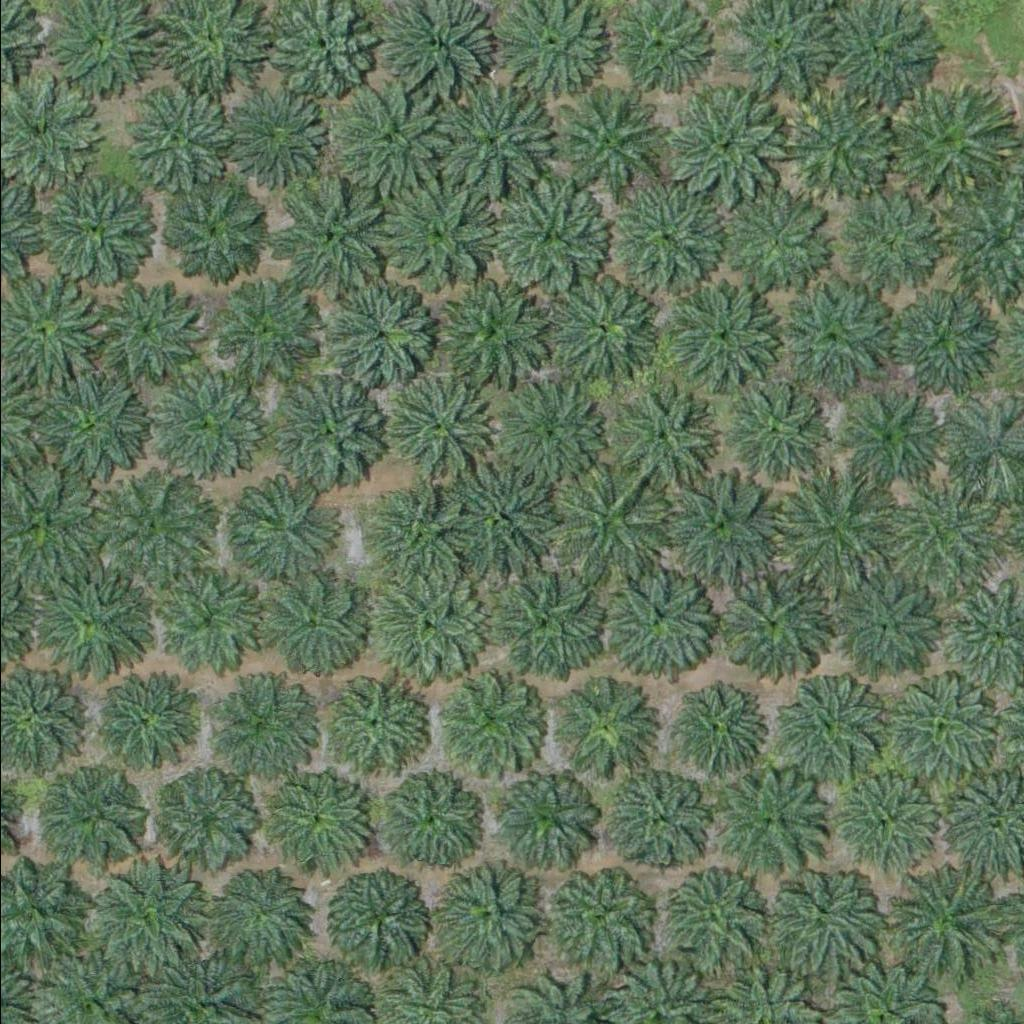Kelapa_Sawit: (358, 557, 484, 682), (879, 78, 1004, 203), (880, 671, 994, 784), (825, 565, 939, 678), (436, 858, 550, 971), (148, 567, 262, 680), (226, 471, 340, 584), (35, 560, 149, 673), (879, 284, 992, 397), (711, 763, 824, 876), (557, 469, 670, 582), (444, 461, 557, 574), (379, 370, 492, 483), (668, 274, 781, 387), (672, 92, 785, 205), (545, 89, 658, 202), (432, 83, 545, 196), (324, 82, 437, 195), (381, 176, 494, 289), (90, 862, 203, 975), (92, 468, 205, 581), (87, 281, 200, 394), (41, 174, 154, 287), (266, 180, 379, 293), (221, 76, 334, 189), (717, 565, 831, 677), (604, 560, 718, 672), (778, 474, 892, 586), (259, 565, 373, 677), (271, 377, 385, 489), (879, 473, 992, 585), (882, 861, 995, 973), (771, 862, 884, 974), (661, 860, 774, 972), (311, 670, 424, 782), (431, 667, 544, 779), (493, 565, 606, 677), (660, 467, 773, 579), (547, 270, 660, 382), (429, 277, 542, 389), (720, 183, 833, 295), (610, 184, 723, 296), (494, 182, 607, 294), (316, 280, 429, 392), (202, 664, 315, 776), (199, 272, 312, 384), (138, 368, 251, 480), (36, 372, 149, 484), (112, 85, 225, 197), (835, 386, 936, 486), (550, 868, 651, 968), (776, 679, 877, 779), (724, 379, 825, 479), (617, 383, 718, 483), (500, 381, 601, 481), (782, 287, 883, 387), (839, 190, 940, 290), (789, 96, 890, 196), (827, 6, 928, 106), (208, 867, 309, 967), (268, 767, 369, 867), (158, 773, 259, 873), (161, 182, 262, 282), (36, 762, 137, 862), (833, 774, 933, 874), (329, 879, 429, 979), (605, 774, 705, 874), (496, 768, 596, 868), (377, 769, 477, 869), (663, 683, 763, 783), (553, 684, 653, 784), (88, 675, 188, 775), (378, 490, 453, 565)
